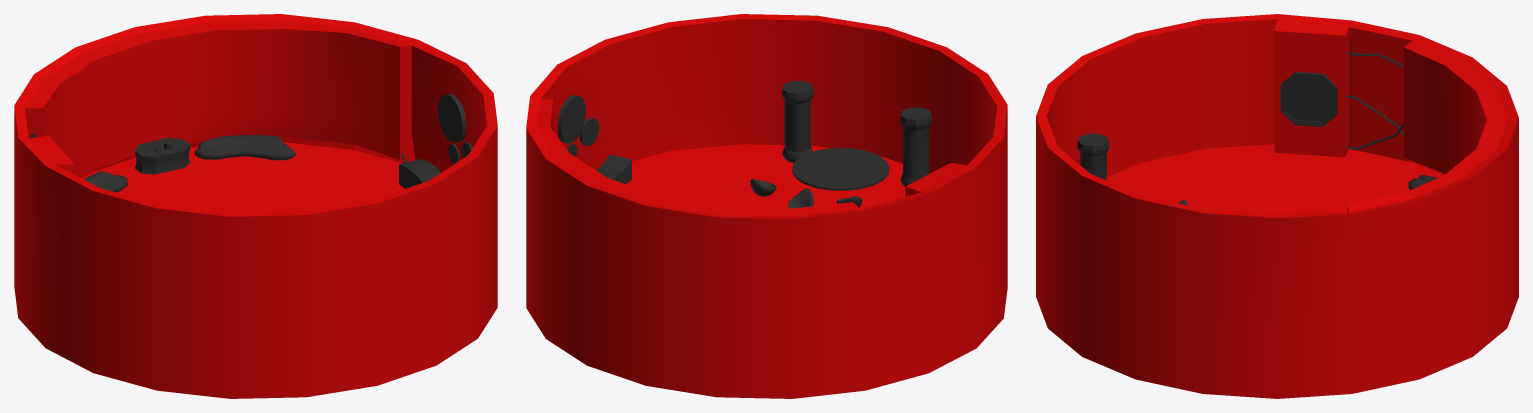
Rendered from big_yurta.fbx.
The picture shows the model from 3 angles, left to right: view 1: azimuth 30°, elevation 25°; view 2: azimuth 150°, elevation 25°; view 3: azimuth 270°, elevation 25°; orthographic projection.
Parts seen in each view (by area): view 1: pCylinder1, pCylinder9, pCube6, pCylinder3, pCube7, pCylinder8; view 2: pCylinder1, pCylinder2, pCylinder7, pCylinder6, pCylinder3, pCube7, pCylinder4; view 3: pCylinder1, pCube3, pCylinder6.
Boxes of the visible parts, x1=… form: pCylinder1: x1=14, y1=14, x2=497, y2=398; pCylinder9: x1=194, y1=135, x2=295, y2=160; pCube6: x1=135, y1=137, x2=190, y2=174; pCylinder3: x1=438, y1=93, x2=466, y2=142; pCube7: x1=399, y1=159, x2=440, y2=188; pCylinder8: x1=84, y1=171, x2=127, y2=192; pCylinder1: x1=526, y1=14, x2=1007, y2=398; pCylinder2: x1=792, y1=148, x2=889, y2=190; pCylinder7: x1=781, y1=81, x2=814, y2=162; pCylinder6: x1=900, y1=107, x2=932, y2=186; pCylinder3: x1=557, y1=95, x2=585, y2=143; pCube7: x1=596, y1=154, x2=631, y2=183; pCylinder4: x1=579, y1=117, x2=599, y2=146; pCylinder1: x1=1036, y1=14, x2=1518, y2=398; pCube3: x1=1280, y1=72, x2=1337, y2=126; pCylinder6: x1=1077, y1=133, x2=1109, y2=180.
Size of the model in its own units: 2090 by 864 by 2090.
